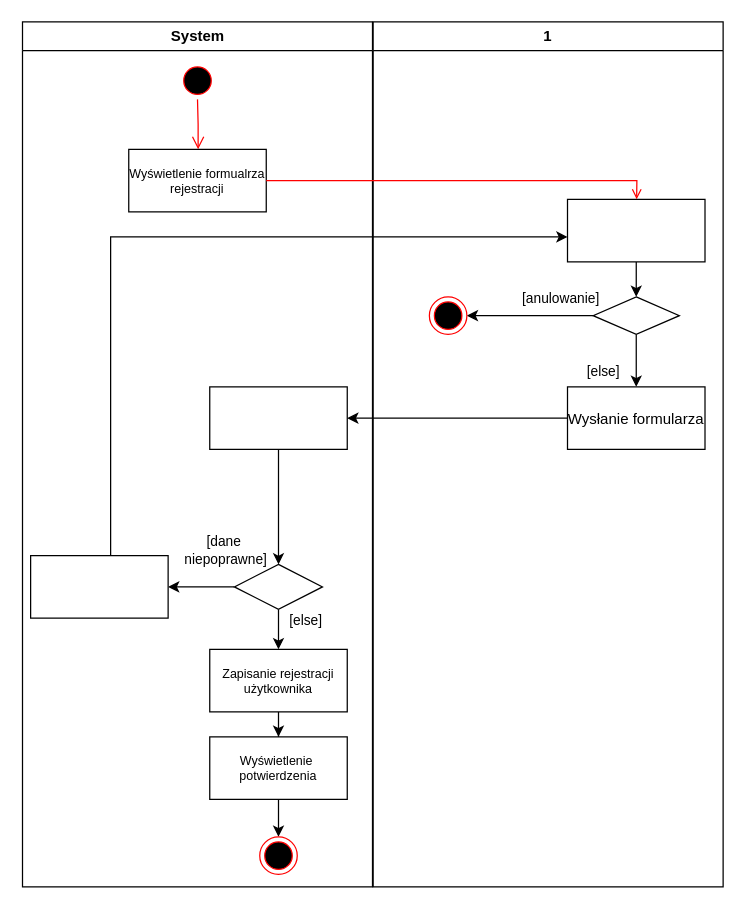
Image size: 745x909. Some labels were removed from this diagram. Here are the shapes that lost their labels. From the top down, the centre of each, then its label:
At (x=635, y=230): "Wybranie turnieju".
At (x=277, y=417): "Walidacja danych".
At (x=98, y=586): "Wyświetlenie komunikatu o błędzie".
